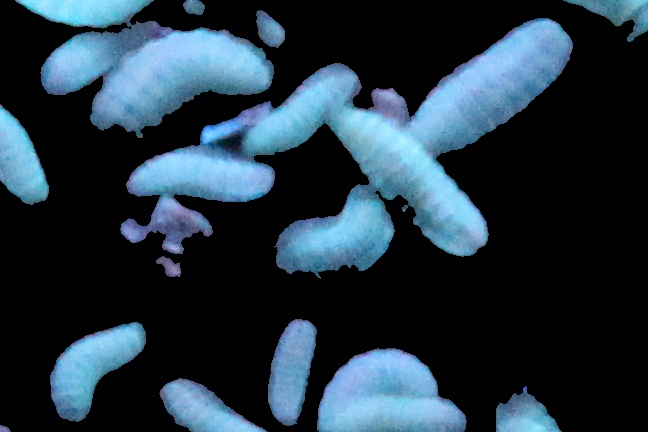larvae: (410, 18, 571, 149), (90, 25, 270, 130), (353, 114, 487, 253), (50, 314, 153, 432), (272, 186, 393, 276), (254, 56, 360, 155), (39, 25, 170, 96), (124, 148, 275, 206), (1, 77, 64, 209), (329, 349, 436, 403), (264, 323, 321, 420), (153, 378, 254, 432), (317, 396, 467, 432)
